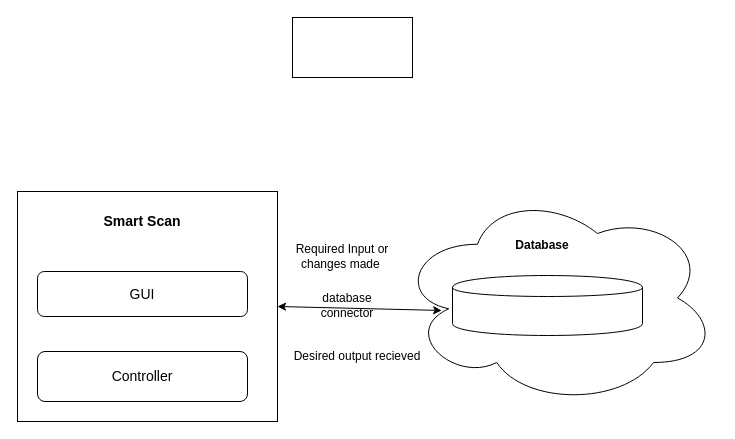
The diagram is 735 pixels wide and 439 high, and some of its shapes have lost their labels. Here are the shapes that lost their labels. From the top down, the centre of each, then its label:
the point at 352,47: Z layer
the point at 547,305: Private Database
